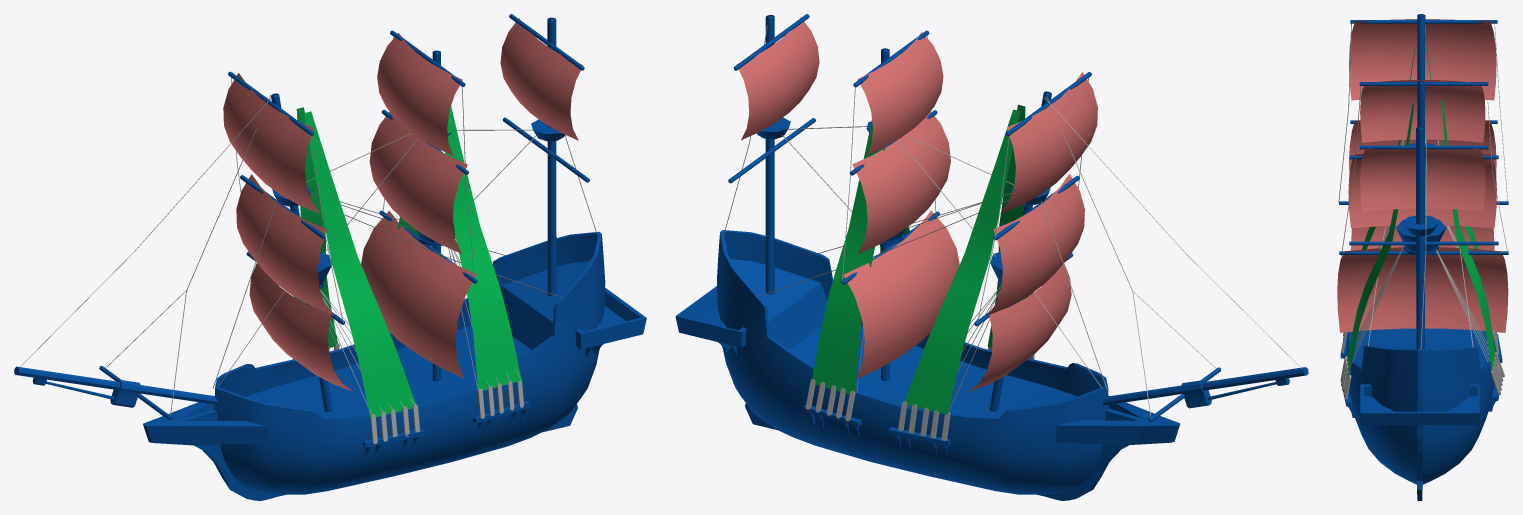
File: ship2.fbx
3 views of the same model, side by side, from view 1: azimuth 30°, elevation 25°; view 2: azimuth 150°, elevation 25°; view 3: azimuth 270°, elevation 25° (orthographic). The views are drawn at different scales.
Parts seen in each view (by area): view 1: polySurface91, polySurface84, pPlane43, polySurface99, polySurface87; view 2: polySurface91, polySurface84, pPlane43, polySurface99, polySurface87; view 3: polySurface84, polySurface91, pPlane43, polySurface99, polySurface87.
Part boxes in pixels (bbox=[...]): polySurface91: bbox=[14, 14, 646, 500]; polySurface84: bbox=[223, 18, 582, 391]; pPlane43: bbox=[293, 106, 521, 418]; polySurface99: bbox=[20, 36, 597, 415]; polySurface87: bbox=[292, 343, 523, 444]; polySurface91: bbox=[675, 14, 1308, 500]; polySurface84: bbox=[736, 17, 1097, 391]; pPlane43: bbox=[812, 104, 1034, 414]; polySurface99: bbox=[724, 26, 1301, 416]; polySurface87: bbox=[806, 346, 1034, 440]; polySurface84: bbox=[1337, 19, 1508, 332]; polySurface91: bbox=[1339, 14, 1508, 500]; pPlane43: bbox=[1347, 46, 1495, 377]; polySurface99: bbox=[1338, 15, 1507, 374]; polySurface87: bbox=[1340, 331, 1504, 400].
Size of the model in its own units: 7445 by 4885 by 2070.
